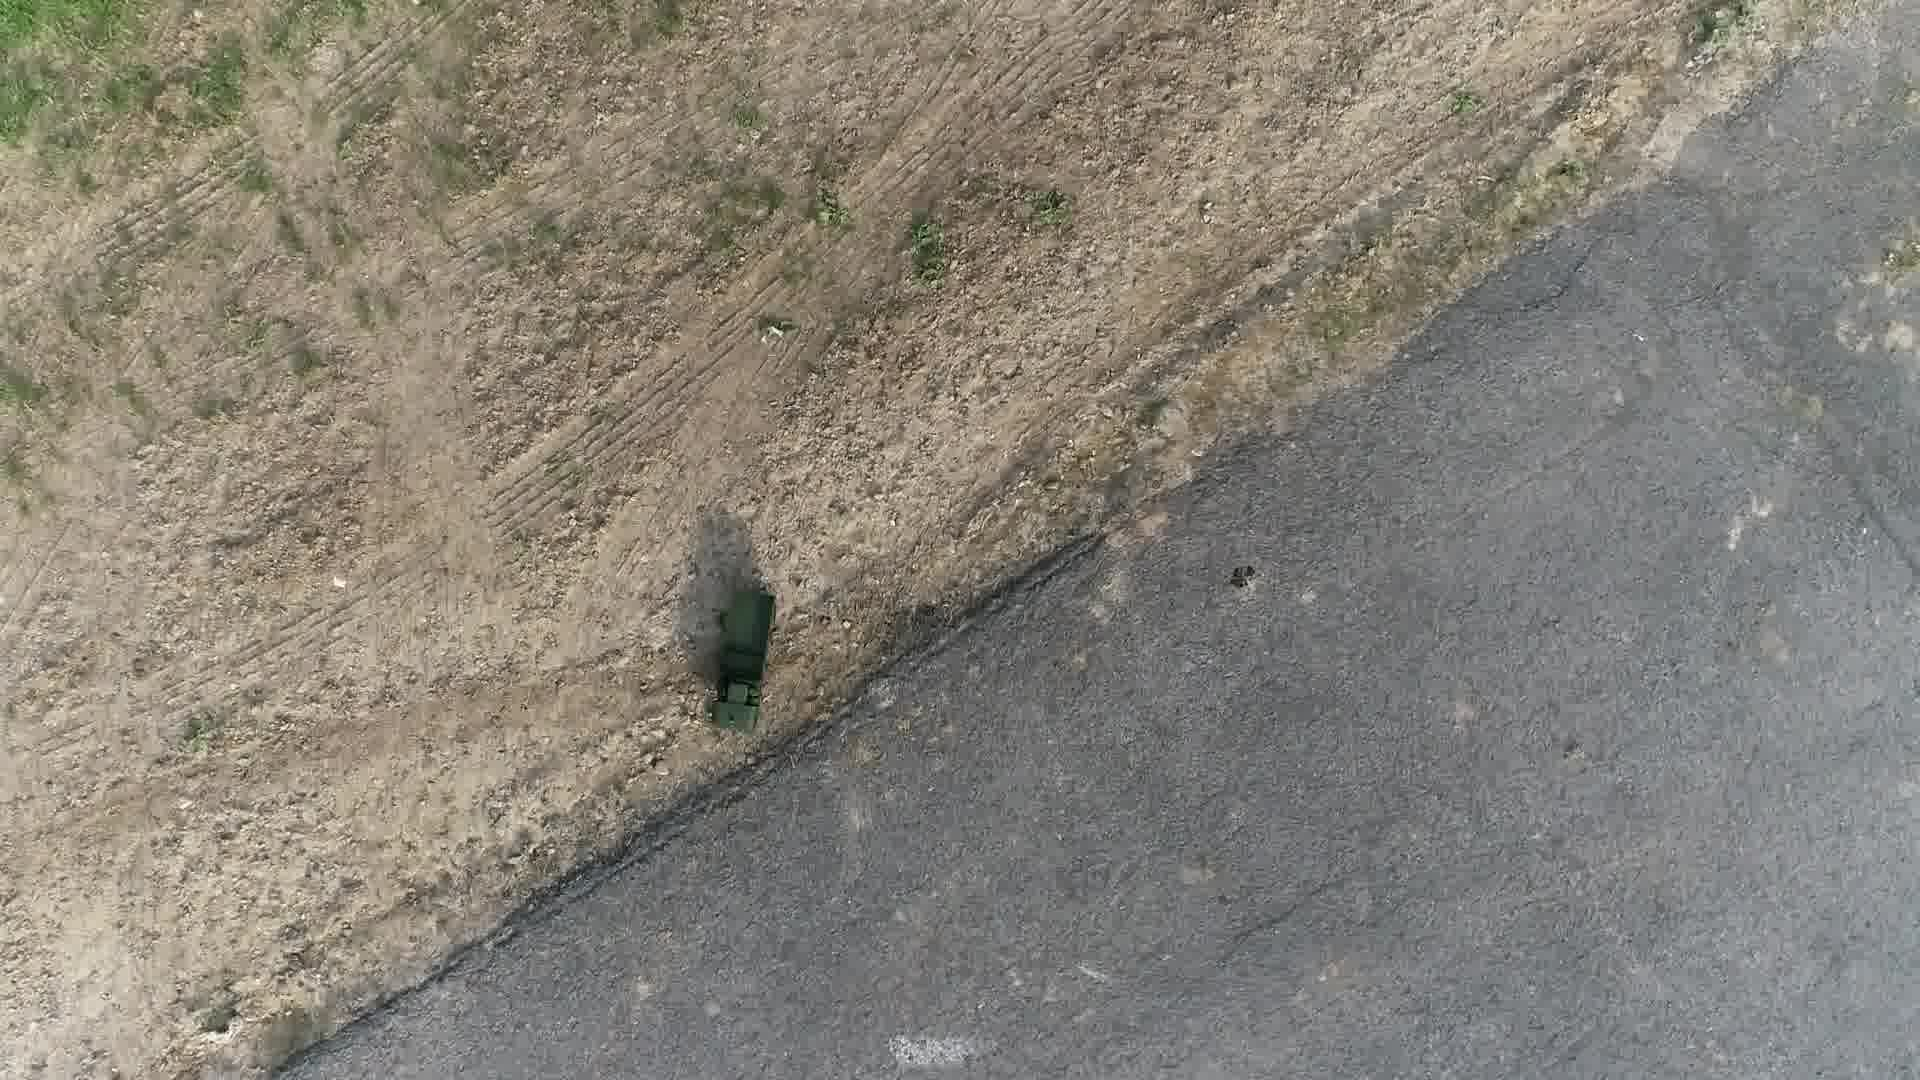transporter9: (698, 583, 783, 737)
